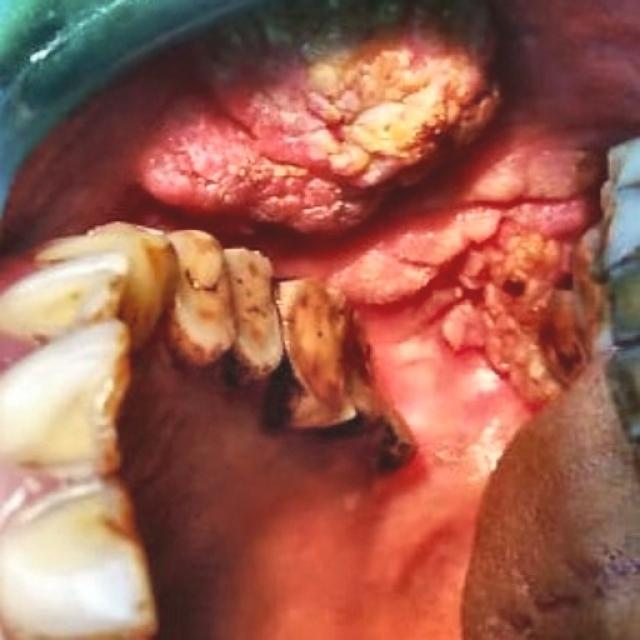cancer-detection: (330, 119, 608, 473), (135, 25, 514, 243)
processing_area: (8, 4, 638, 637)
